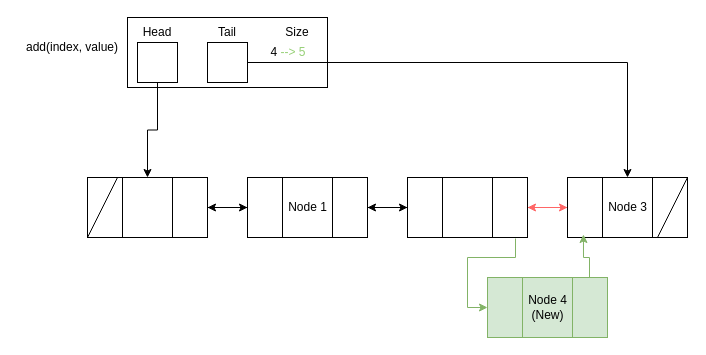
The diagram is 706 pixels wide and 355 high, and some of its shapes have lost their labels. Each missing label, with the box of its shape:
Node 0: (86, 176, 208, 238)
Node 2: (406, 176, 528, 238)
